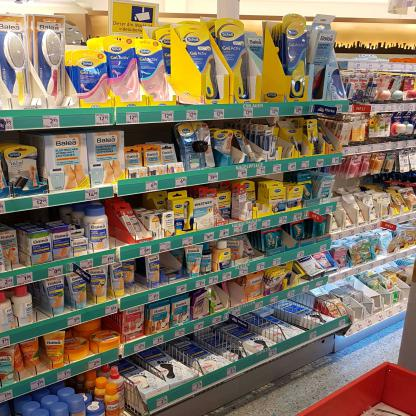Void: (130, 127, 171, 142)
